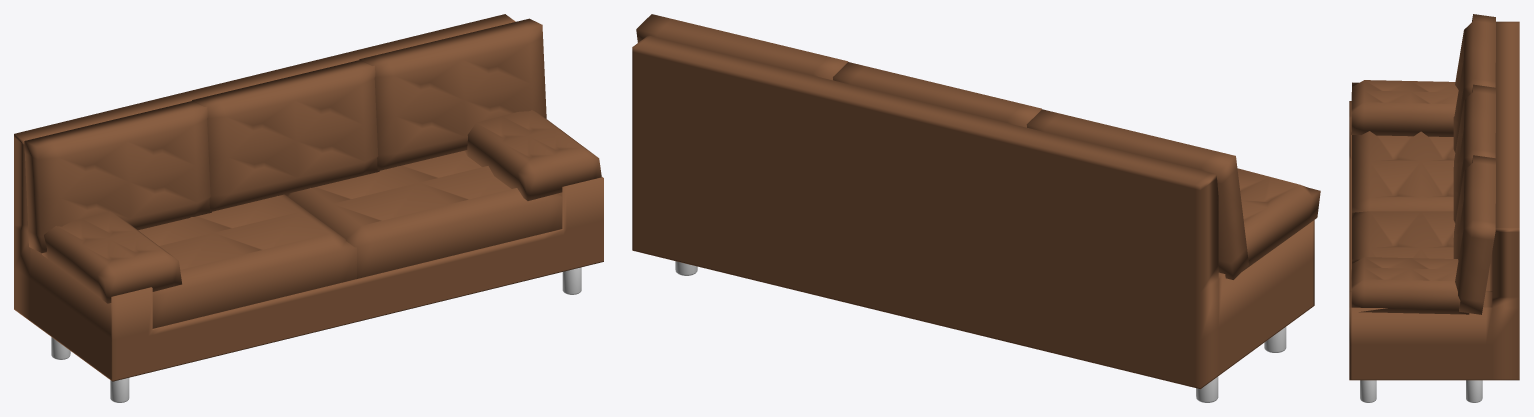
Rendered from brown.gltf.
3 views of the same model, side by side, from view 1: azimuth 30°, elevation 25°; view 2: azimuth 150°, elevation 25°; view 3: azimuth 270°, elevation 25° (orthographic). The views are drawn at different scales.
Parts seen in each view (by area): view 1: Couch, Plane003, Plane, Plane005, Plane004, Plane001, Plane006, Plane007; view 2: Couch, Plane005, Plane006, Plane004, Plane003; view 3: Couch, Plane001, Plane007, Plane006, Plane004, Plane, Plane003, Plane005, Circle001, Circle.
Boxes of the visible parts, <box> form: Couch: <box>14,14,603,381</box>; Plane003: <box>192,60,379,211</box>; Plane: <box>285,150,562,278</box>; Plane005: <box>24,101,211,252</box>; Plane004: <box>359,18,546,170</box>; Plane001: <box>138,194,356,328</box>; Plane006: <box>42,211,181,303</box>; Plane007: <box>465,110,601,200</box>; Couch: <box>632,35,1314,389</box>; Plane005: <box>1026,109,1248,279</box>; Plane006: <box>1237,168,1320,271</box>; Plane004: <box>636,14,848,80</box>; Plane003: <box>833,62,1041,127</box>; Couch: <box>1349,21,1519,380</box>; Plane001: <box>1352,131,1455,212</box>; Plane007: <box>1351,257,1469,314</box>; Plane006: <box>1351,80,1458,136</box>; Plane004: <box>1453,155,1495,314</box>; Plane: <box>1352,211,1490,291</box>; Plane003: <box>1453,84,1495,223</box>; Plane005: <box>1453,14,1495,152</box>; Circle001: <box>1466,380,1482,402</box>; Circle: <box>1360,380,1376,402</box>.
Size of the model in its own units: 5.96 by 2.41 by 2.
